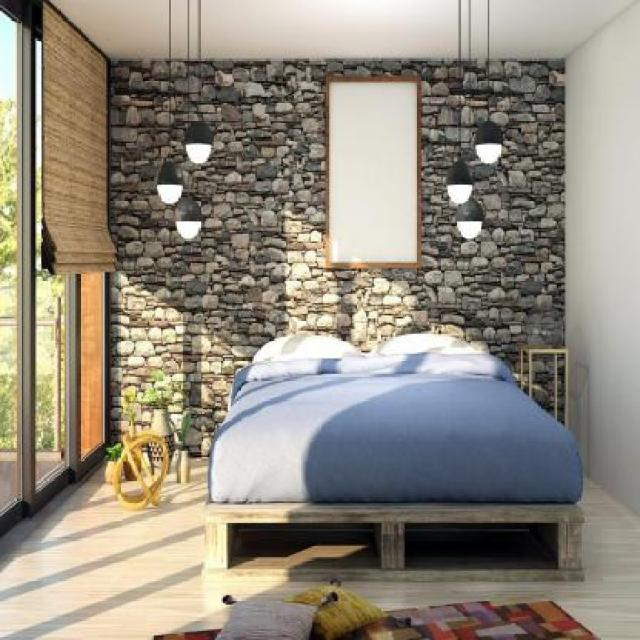Floor: (0, 452, 330, 639)
